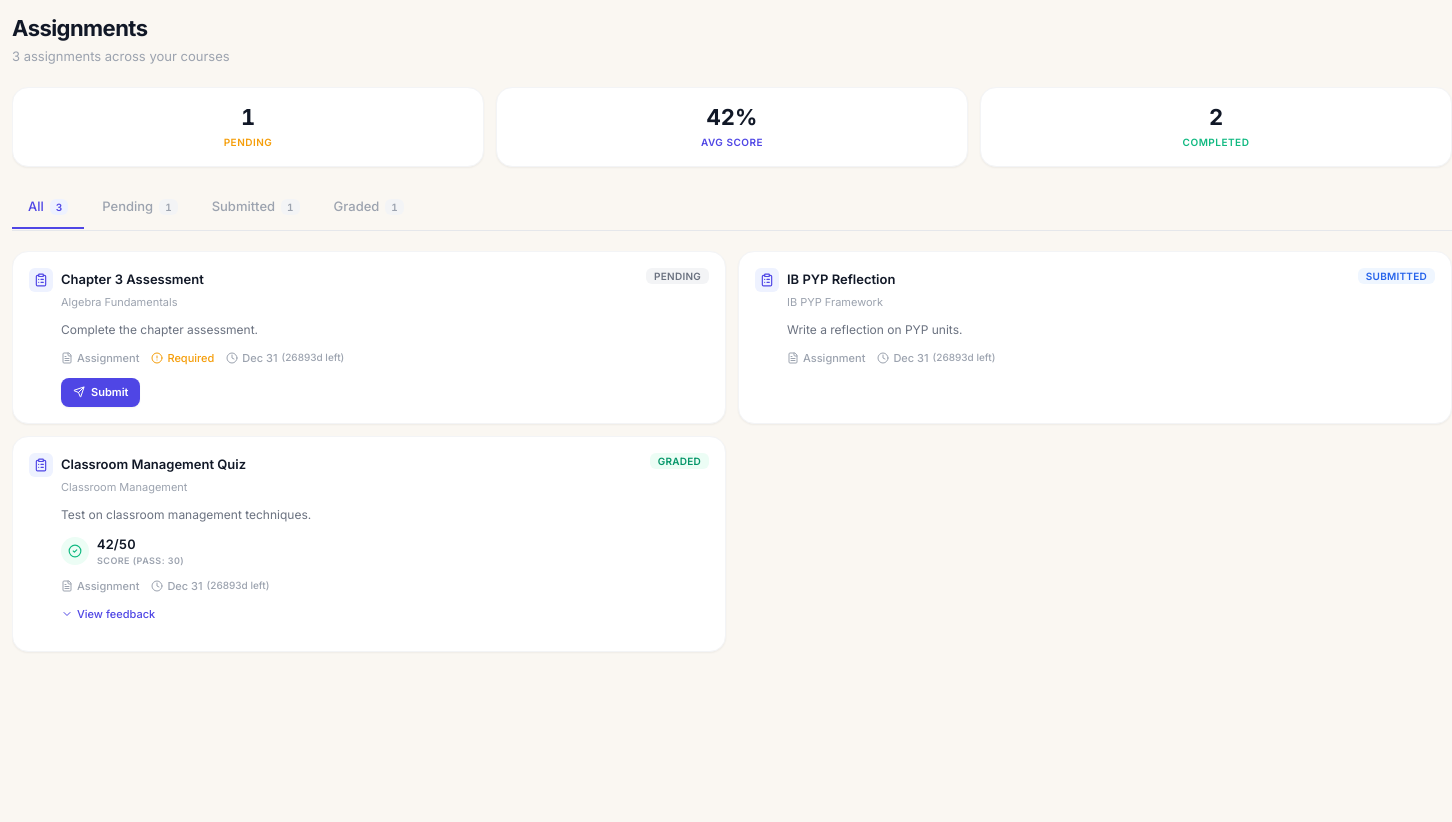
Test case: Student AssignmentsPage › Empty state — Graded tab › shows "No graded assignments" when Graded tab is empty
Check: the heading "Chapter 3 Assessment" is shown, box [61,271,204,288]
Click the button "Graded1".
click(369, 208)  # box [318,187,420,228]
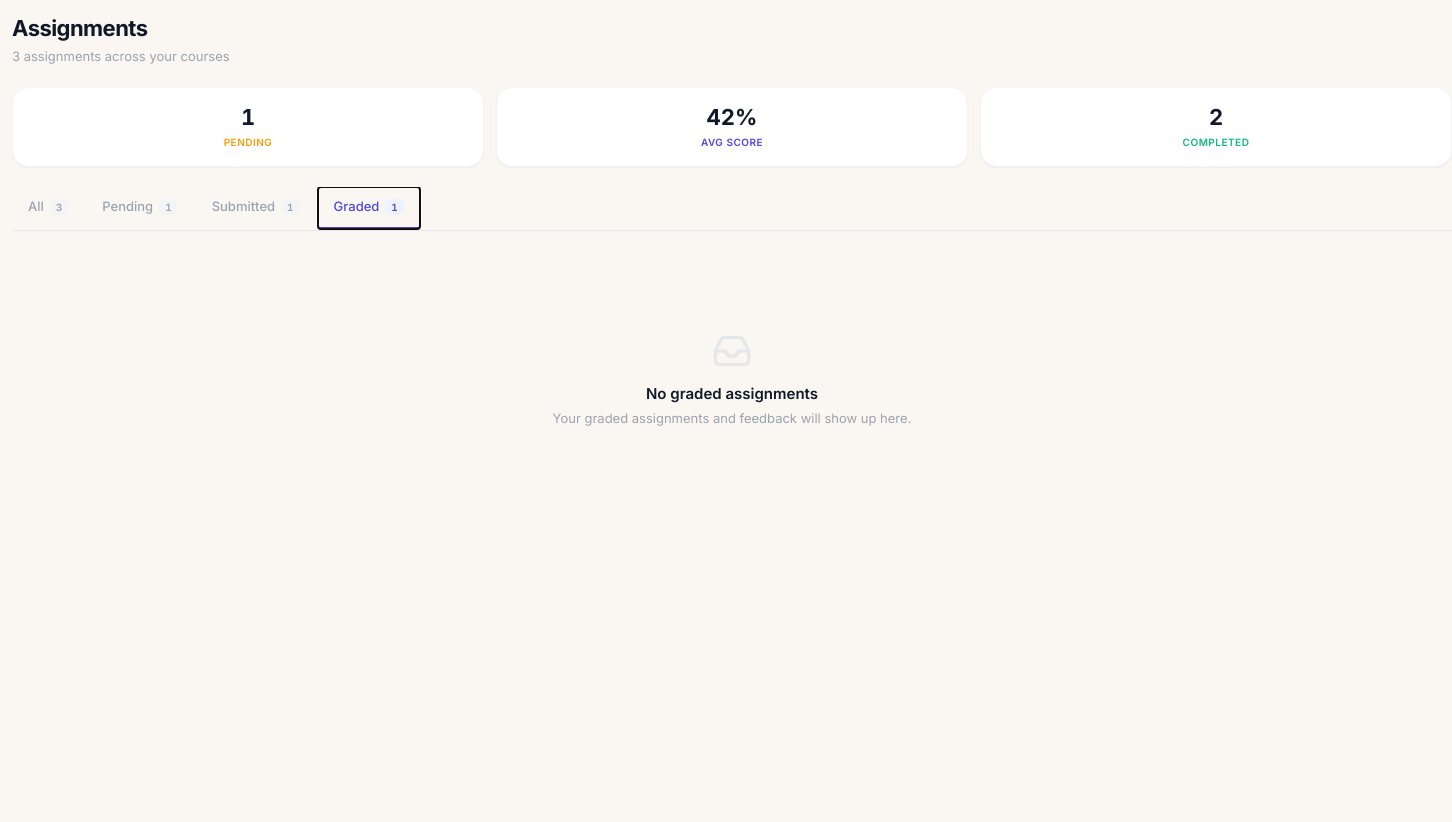
Check: the heading "No graded assignments" is shown, box [646,384,818,402]
